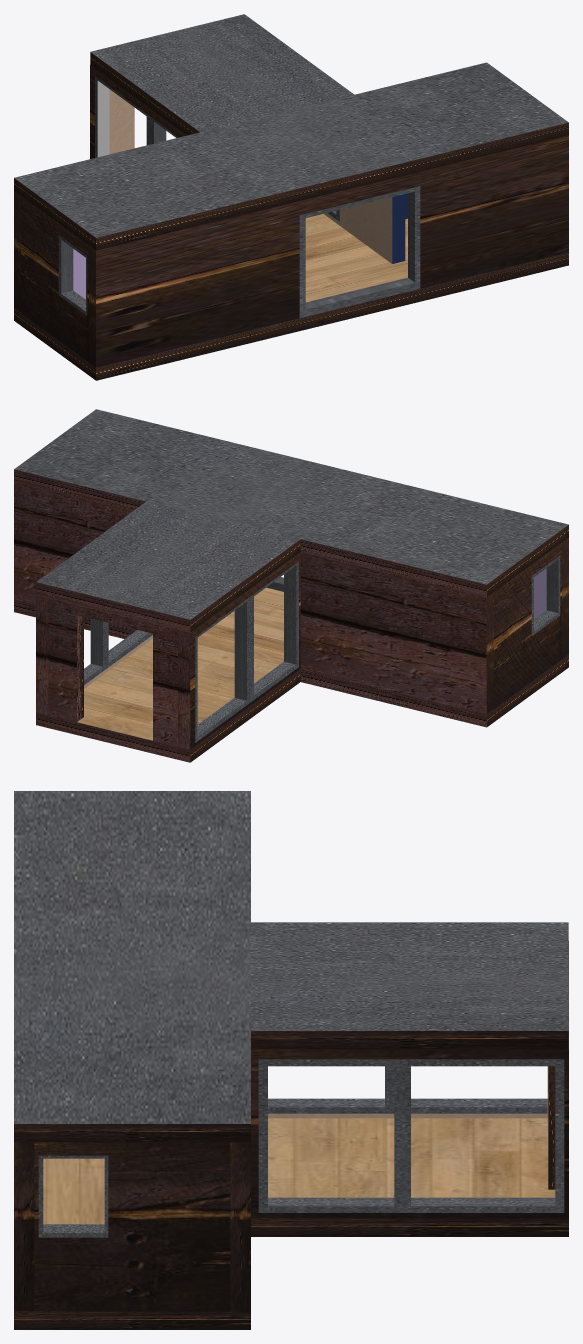
The model's file is fachada(ventanas).obj.
3 renders of one model, top to bottom at view 1: azimuth 30°, elevation 25°; view 2: azimuth 150°, elevation 25°; view 3: azimuth 270°, elevation 25°, orthographic. The views are drawn at different scales.
Parts seen in each view (by area): view 1: pCube2, pasted__pCube1group9, pasted__pasted__pCube1pasted__group4group10, pCube1, polySurface3 pasted__pCube3group7, pCube6, polySurface6 polySurface1 pasted__pCube4group8, pCube5, pasted__pasted__pCube2pasted__group5group6, pasted__pCube1group4; view 2: pasted__pCube1group9, pasted__pasted__pCube2pasted__group5group6, pasted__pasted__pCube1pasted__group4group10, pasted__pCube1group4, polySurface6 polySurface1 pasted__pCube4group8, pCube5, polySurface3 pasted__pCube3group7, pCube1, pasted__pCube2group5, polySurface10 polySurface9 pCube4, pCube2; view 3: pasted__pCube1group9, pasted__pasted__pCube1pasted__group4group10, polySurface5 pCube3, pasted__pCube1group4, polySurface10 polySurface9 pCube4, pCube1, polySurface6 polySurface1 pasted__pCube4group8, pasted__pCube2group5, pCube2, pCube5.
Boxes of the visible parts, x1,y1,x2,y2 form: pCube2: [89, 135, 568, 367]; pasted__pCube1group9: [14, 62, 568, 250]; pasted__pasted__pCube1pasted__group4group10: [90, 14, 353, 135]; pCube1: [14, 218, 568, 380]; polySurface3 pasted__pCube3group7: [21, 196, 88, 362]; pCube6: [349, 194, 405, 263]; polySurface6 polySurface1 pasted__pCube4group8: [90, 64, 186, 158]; pCube5: [109, 89, 134, 154]; pasted__pasted__pCube2pasted__group5group6: [14, 191, 85, 312]; pasted__pCube1group4: [305, 214, 341, 236]; pasted__pCube1group9: [14, 409, 568, 597]; pasted__pasted__pCube2pasted__group5group6: [300, 552, 493, 714]; pasted__pasted__pCube1pasted__group4group10: [36, 501, 300, 632]; pasted__pCube1group4: [36, 639, 300, 762]; polySurface6 polySurface1 pasted__pCube4group8: [178, 552, 300, 749]; pCube5: [48, 598, 177, 746]; polySurface3 pasted__pCube3group7: [494, 543, 561, 709]; pCube1: [14, 587, 568, 727]; pasted__pCube2group5: [14, 482, 132, 604]; polySurface10 polySurface9 pCube4: [36, 595, 152, 714]; pCube2: [266, 537, 568, 659]; pasted__pCube1group9: [14, 791, 250, 1142]; pasted__pasted__pCube1pasted__group4group10: [251, 922, 568, 1049]; polySurface5 pCube3: [34, 1142, 230, 1311]; pasted__pCube1group4: [251, 1118, 568, 1236]; polySurface10 polySurface9 pCube4: [251, 1041, 568, 1218]; pCube1: [14, 1158, 250, 1329]; polySurface6 polySurface1 pasted__pCube4group8: [268, 941, 568, 1118]; pasted__pCube2group5: [230, 1142, 250, 1311]; pCube2: [14, 1142, 34, 1311]; pCube5: [548, 949, 568, 1189].
Size of the model in its own units: 18.13 by 5.24 by 12.78.
